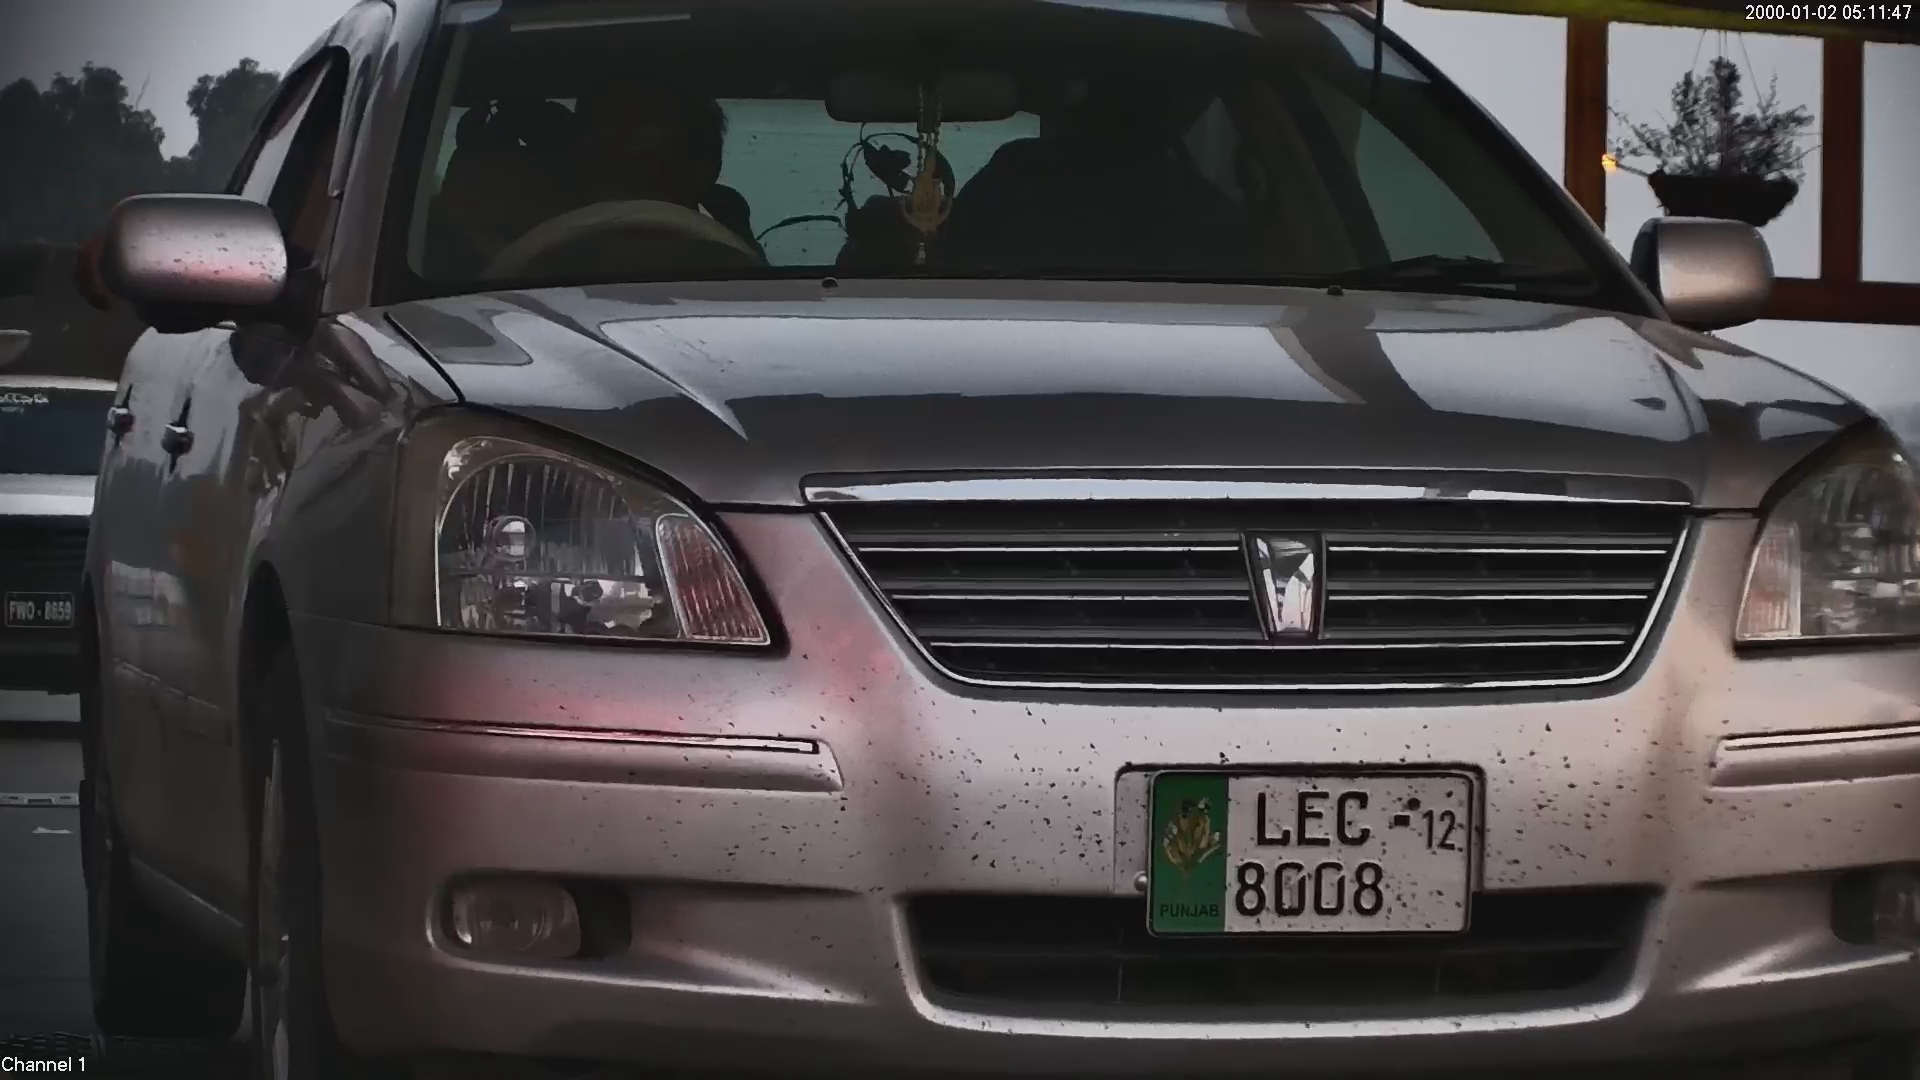Number_Plate: (1136, 751, 1494, 953)
